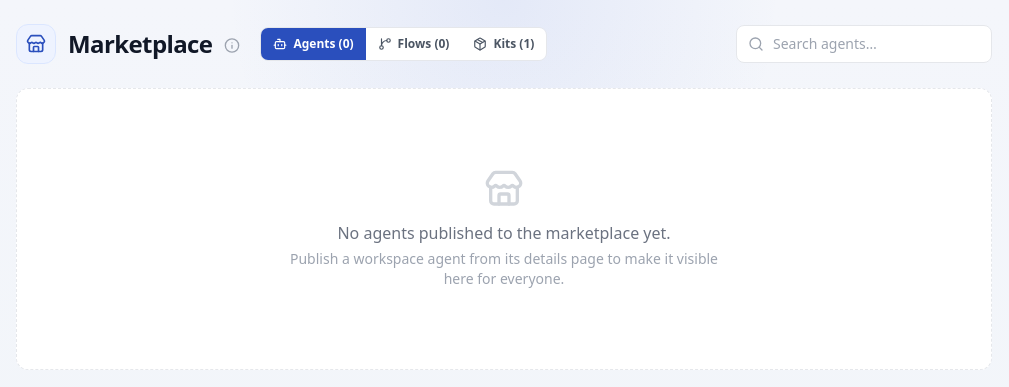
Scenario: Marketplace — Kits tab › lists a kit card with its connector chips
Click the button "Kits (1)" at (504, 44), box [461,28,546,60]
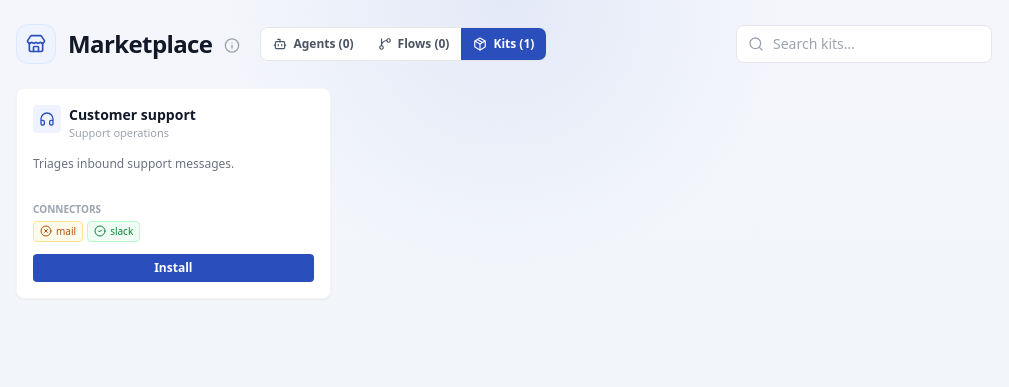
Expected: the text "Customer support" is shown, [69,105,196,125]
Expected: the text "mail" is shown, [33,220,83,242]
Expected: the text "slack" is shown, [87,220,140,242]
